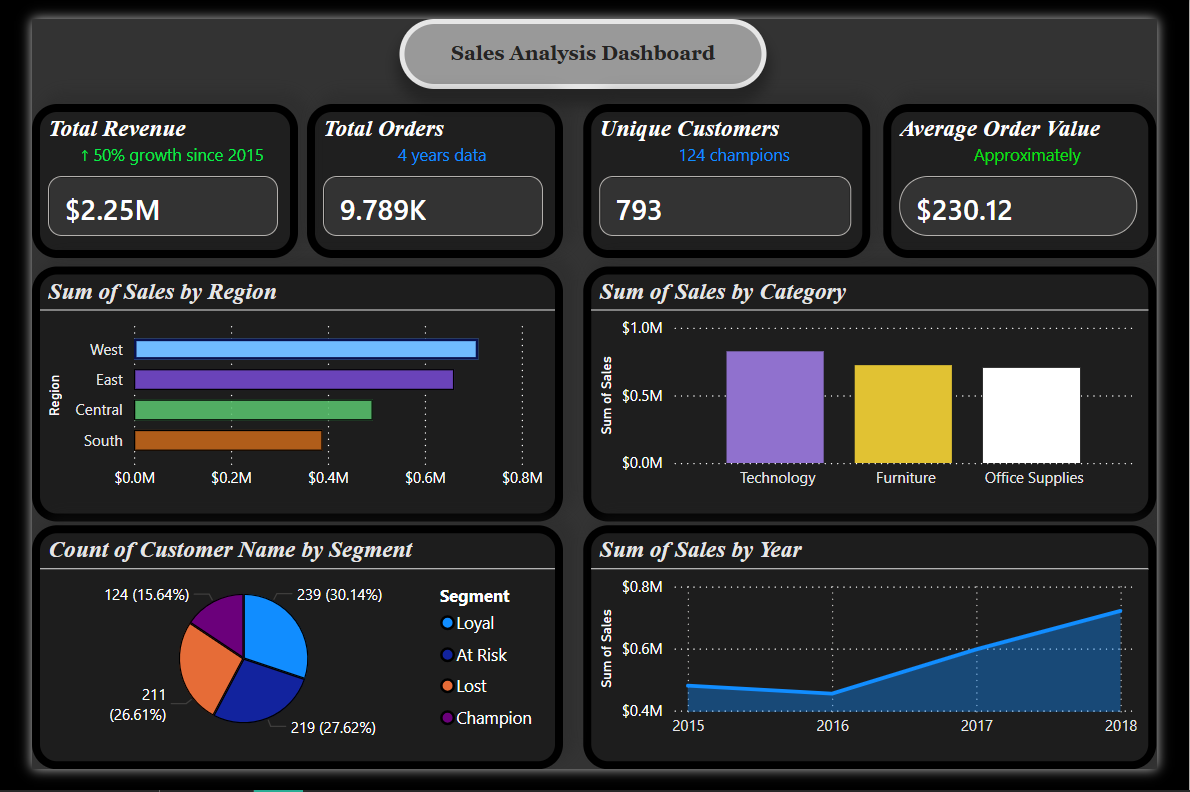

The dashboard page shown, as its layout file describes it:
{"tool":"powerbi","page":{"name":"Page 1","canvas":[900,600],"ordinal":0},"visuals":[{"type":"barChart","fields":{"Category":["superstore_clean.Region"],"Y":["Sum(superstore_clean.Sales)"]},"box":[0,198,425.5,203.9],"z":0},{"type":"clusteredColumnChart","fields":{"Category":["superstore_clean.Category"],"Y":["Sum(superstore_clean.Sales)"]},"box":[441.2,198,458.8,203.9],"z":1000},{"type":"lineChart","fields":{"Y":["Sum(superstore_clean.Sales)"],"Category":["superstore_clean.Year"]},"box":[441.2,404.9,458.8,195.1],"z":2000},{"type":"textbox","box":[294,0,294,56],"z":3000},{"type":"pieChart","fields":{"Category":["rfm_data.Segment"],"Y":["CountNonNull(rfm_data.Customer Name)"]},"box":[0,404.9,425.5,195.1],"z":4000},{"type":"cardVisual","title":"Total Revenue","fields":{"Data":["Sum(superstore_clean.Sales)"]},"box":[0,67.6,212.7,123.5],"z":5000},{"type":"cardVisual","title":"Total Orders","fields":{"Data":["CountNonNull(superstore_clean.Order_ID)"]},"box":[219.6,67.6,205.9,123.5],"z":6000},{"type":"cardVisual","title":"Unique Customers","fields":{"Data":["Count(superstore_clean.Customer_ID)"]},"box":[441,68,230,123],"z":7000},{"type":"cardVisual","title":"Average Order Value","fields":{"Data":["Avg(superstore_clean.Sales)"]},"box":[681,68,219,123],"z":8000}]}

Visuals, with their boxes in screenshot pixels (x1, y1, x2, y2), scaled from the page's 900x600 canvas onto the 1190x792 screenshot:
barChart - superstore_clean.Region x Sum(superstore_clean.Sales): (left=0, top=261, right=563, bottom=531)
clusteredColumnChart - superstore_clean.Category x Sum(superstore_clean.Sales): (left=583, top=261, right=1189, bottom=531)
lineChart - Sum(superstore_clean.Sales) x superstore_clean.Year: (left=583, top=534, right=1189, bottom=791)
textbox: (left=389, top=0, right=777, bottom=74)
pieChart - rfm_data.Segment x CountNonNull(rfm_data.Customer Name): (left=0, top=534, right=563, bottom=791)
"Total Revenue" cardVisual: (left=0, top=89, right=281, bottom=252)
"Total Orders" cardVisual: (left=290, top=89, right=563, bottom=252)
"Unique Customers" cardVisual: (left=583, top=90, right=887, bottom=252)
"Average Order Value" cardVisual: (left=900, top=90, right=1189, bottom=252)
